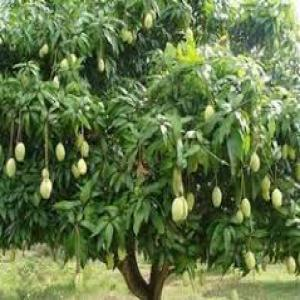Tree: (0, 0, 298, 296)
